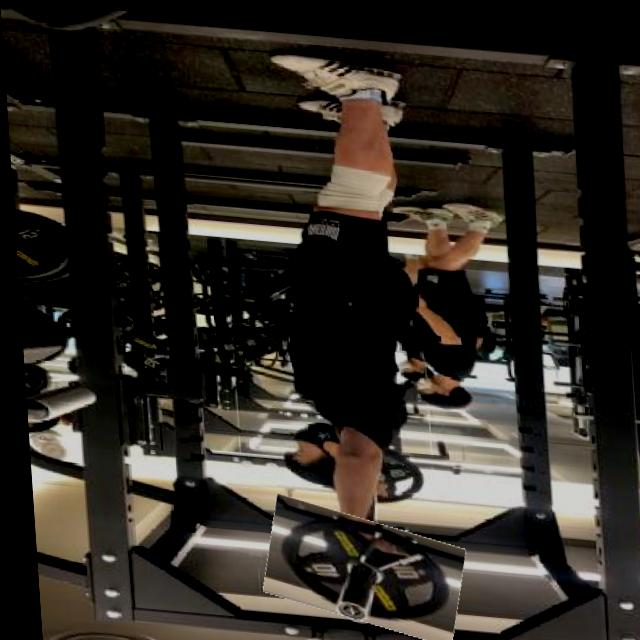barbell: (256, 498, 461, 632)
